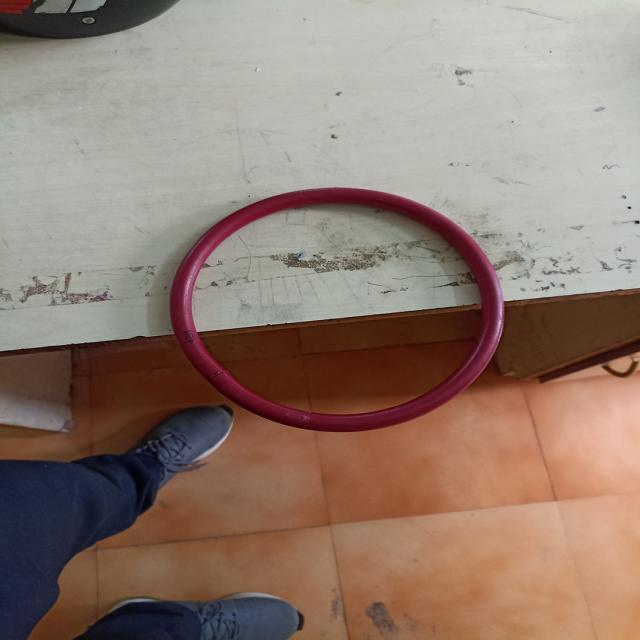daire: (174, 185, 503, 430)
